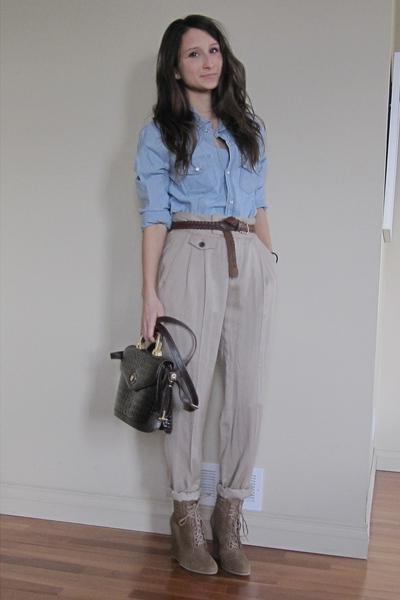long sleeve shirt: (133, 107, 283, 234)
trousers: (140, 212, 278, 506)
